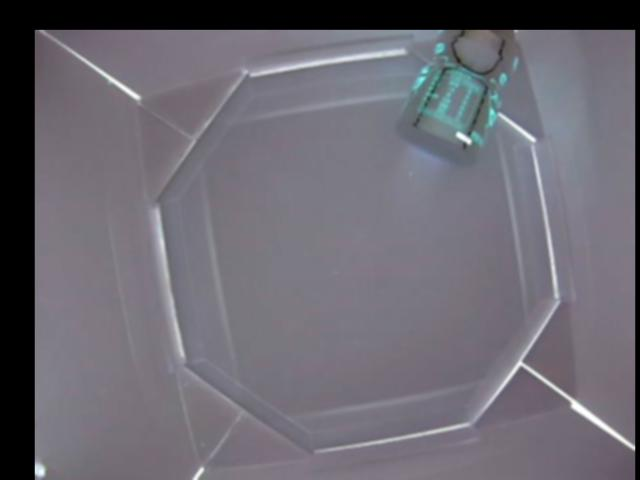Bottle: (395, 30, 522, 167)
